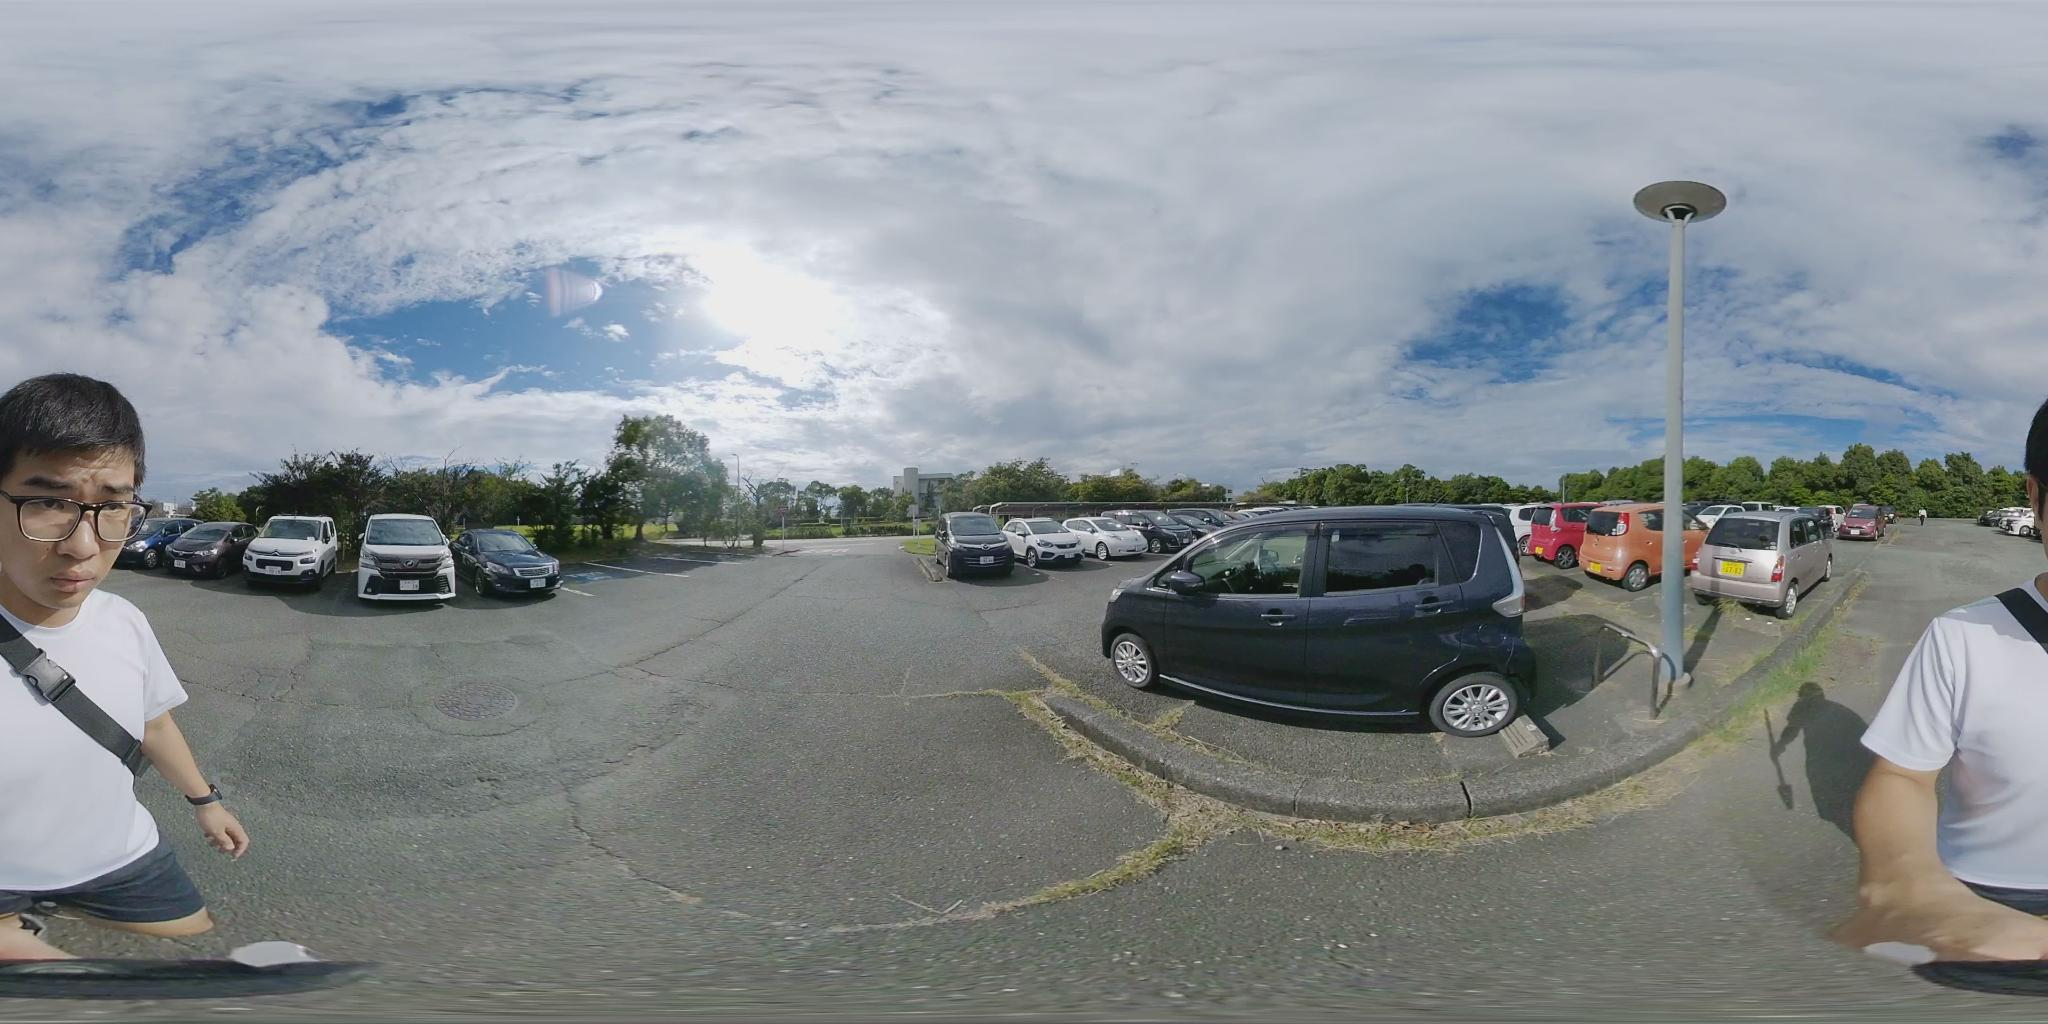car: (1098, 507, 1639, 743), (1685, 511, 1839, 619), (1532, 499, 1708, 583), (364, 513, 461, 605), (238, 516, 333, 585), (465, 532, 567, 594), (942, 512, 1034, 579), (1023, 519, 1149, 562), (142, 522, 249, 573), (1836, 508, 1894, 542), (1985, 508, 2034, 538)
